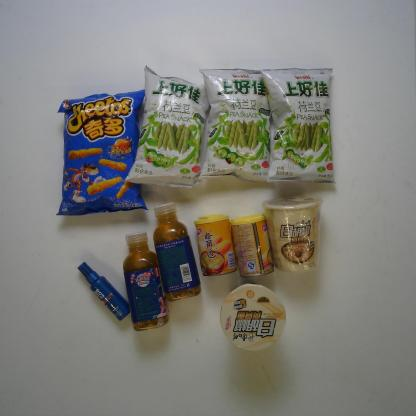Canned Food: (226, 214, 284, 280), (188, 210, 239, 278)
Drink: (116, 227, 172, 333), (147, 201, 204, 302)
Instant Noodles: (214, 280, 293, 356), (262, 195, 327, 276)
Personal Hygiene: (76, 260, 132, 330)
Puffed Food: (54, 89, 157, 218), (123, 65, 207, 191), (196, 62, 278, 184), (260, 64, 338, 184)
